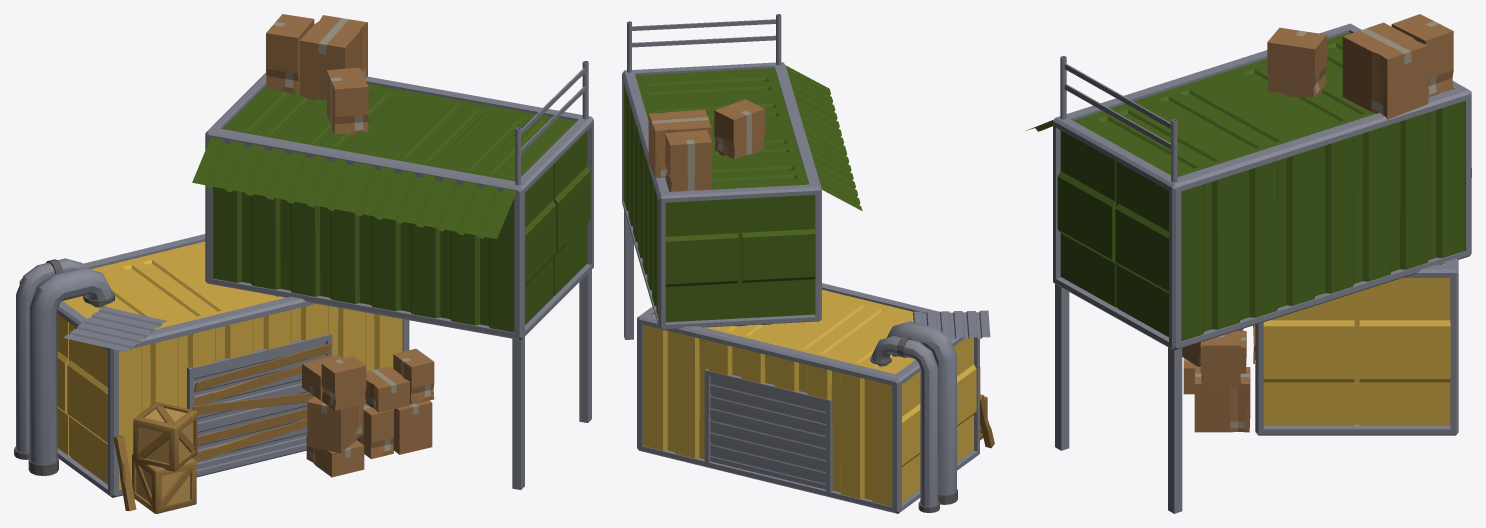
Rendered from Structure-oUkHO0kbQt.glb.
3 views of the same model, side by side, from view 1: azimuth 30°, elevation 25°; view 2: azimuth 150°, elevation 25°; view 3: azimuth 270°, elevation 25° (orthographic). The views are drawn at different scales.
Visible parts, largest first — view 1: Structure-oUkHO0kbQt; view 2: Structure-oUkHO0kbQt; view 3: Structure-oUkHO0kbQt.
Boxes of the visible parts, x1,y1,x2,y2 form: Structure-oUkHO0kbQt: (14,14,593,513); Structure-oUkHO0kbQt: (622,14,994,513); Structure-oUkHO0kbQt: (1026,14,1471,513).
Size of the model in its own units: 3.73 by 2.74 by 2.81.
